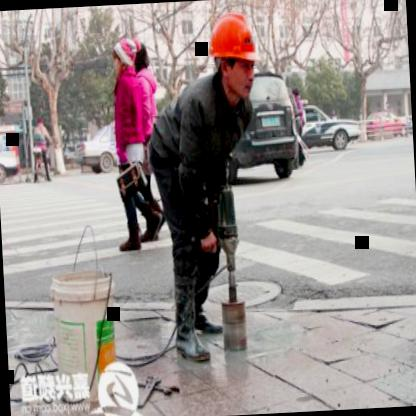head: (109, 30, 137, 76), (131, 41, 150, 73)
helmet: (206, 8, 266, 102)
